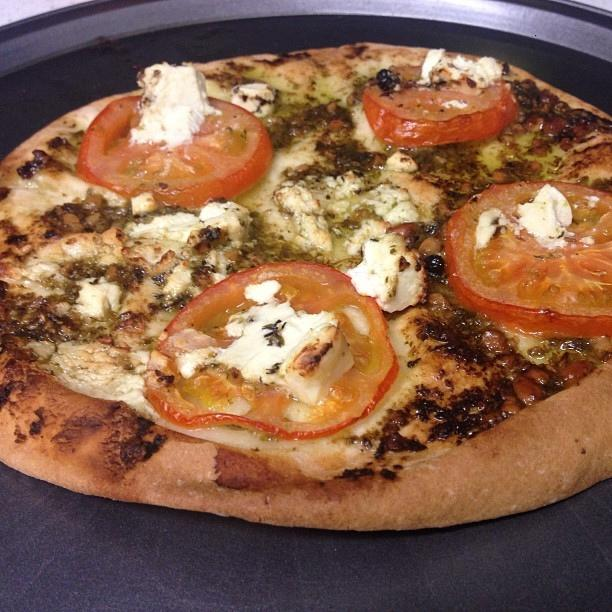tomato: (143, 261, 400, 440), (445, 180, 608, 336), (75, 95, 276, 209), (362, 77, 522, 146)
